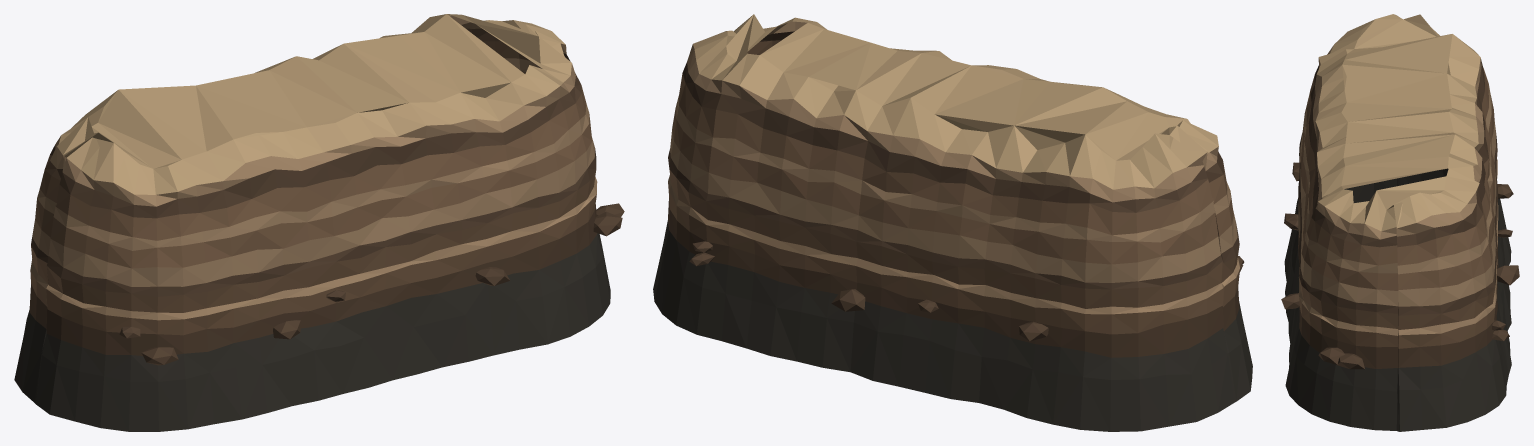
Rendered from rocha-quadrante.glb.
3 views of the same model, side by side, from view 1: azimuth 30°, elevation 25°; view 2: azimuth 150°, elevation 25°; view 3: azimuth 270°, elevation 25° (orthographic). The views are drawn at different scales.
Visible parts, largest first — view 1: rocha-quadrante; view 2: rocha-quadrante; view 3: rocha-quadrante.
Boxes of the visible parts, x1=… form: rocha-quadrante: x1=14, y1=14, x2=624, y2=431; rocha-quadrante: x1=653, y1=14, x2=1252, y2=431; rocha-quadrante: x1=1281, y1=14, x2=1519, y2=431.
Size of the model in its own units: 381 by 170 by 169.
